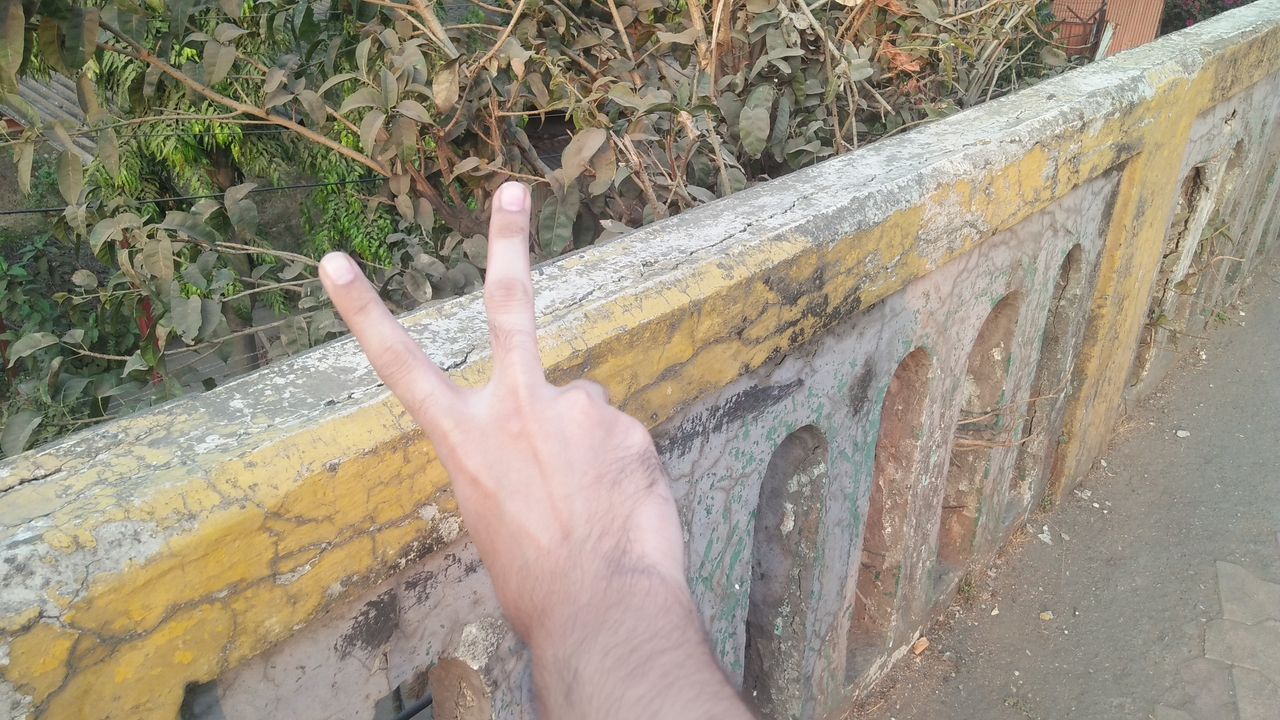fingertip: (310, 244, 368, 300), (488, 172, 536, 222)
